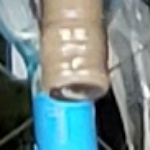bottle: (33, 37, 128, 121)
